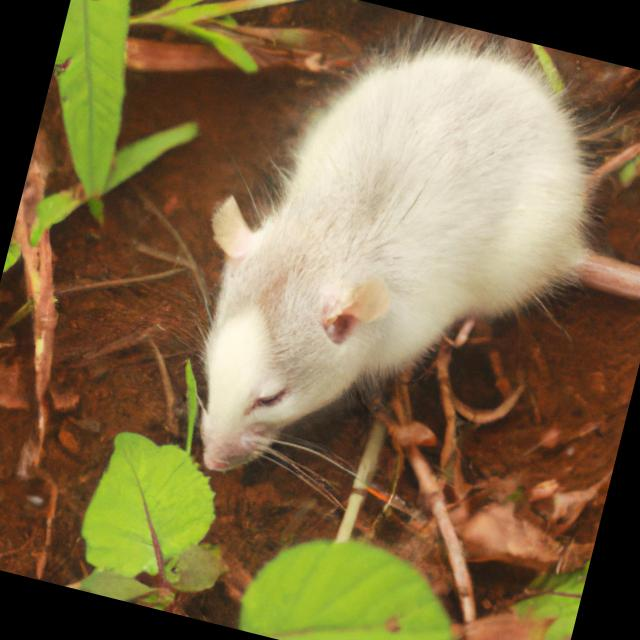rodent: (117, 0, 638, 564)
